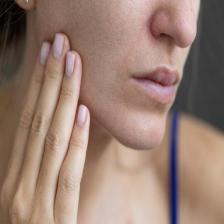Dry: (40, 0, 199, 142)
